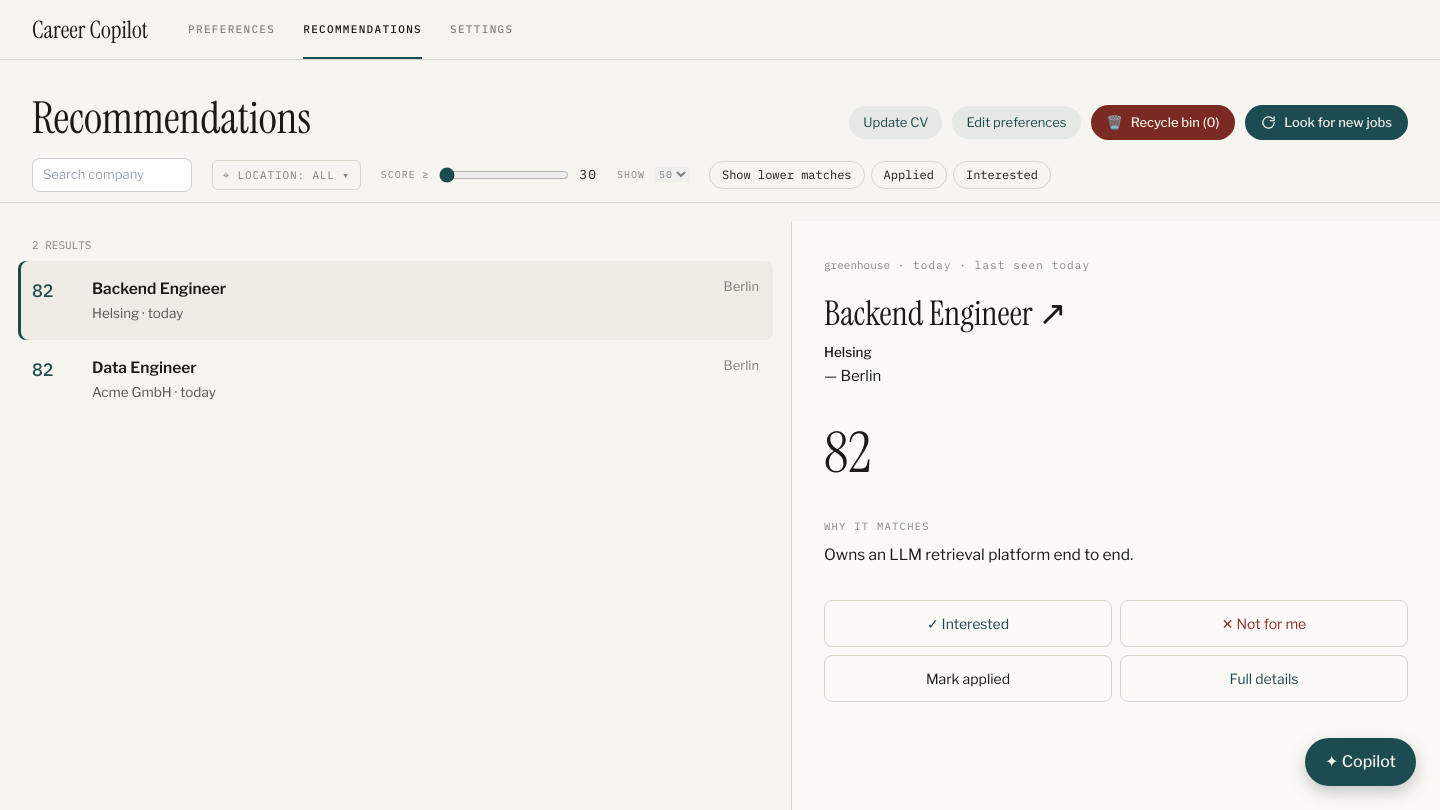
review screen › narrows the list to a company typed in the search box
Type "hels" into the search field named "Search companies" at (112, 175), box [32, 158, 192, 192]
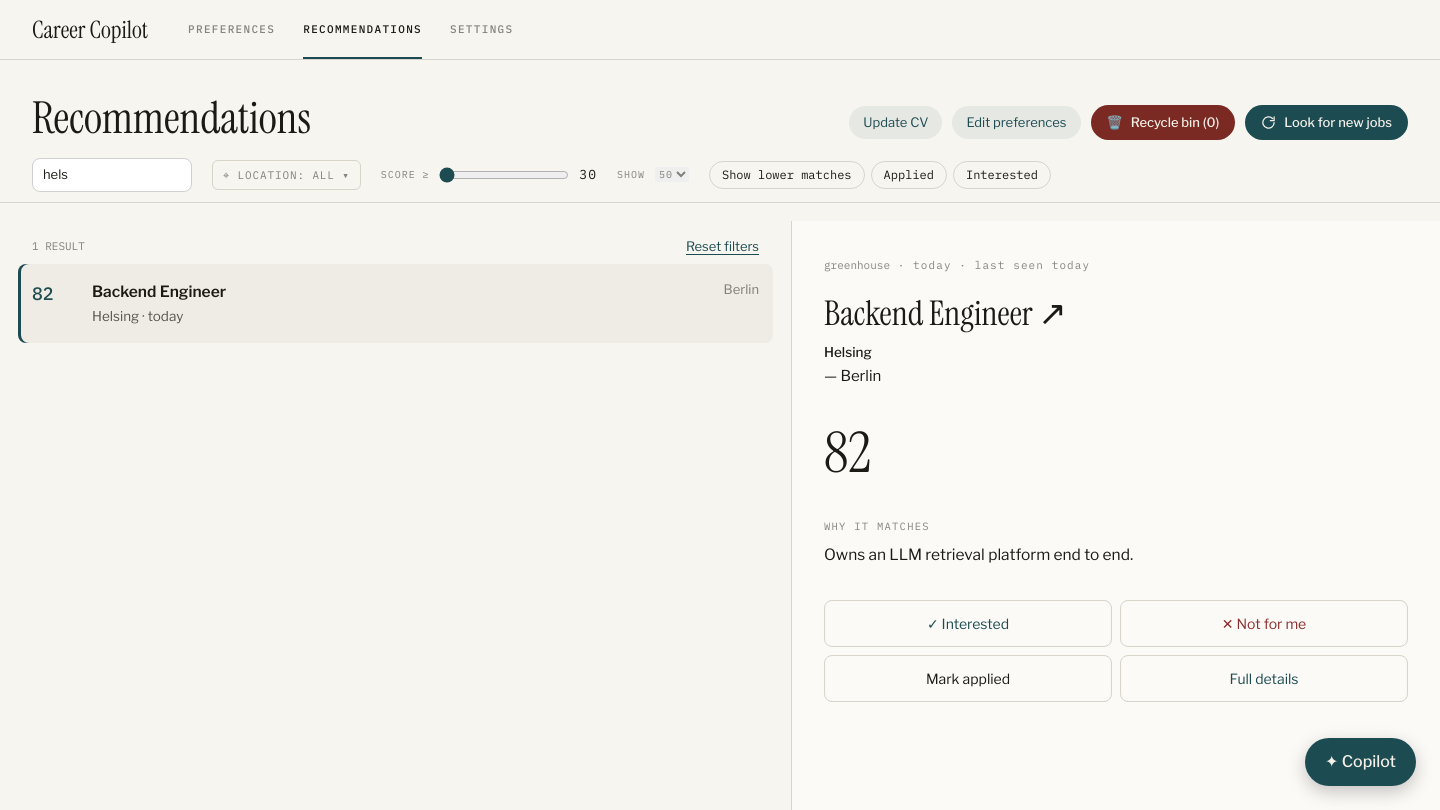
Check: the text "Backend Engineer" is shown, box [92, 280, 226, 303]
Check: the button "Data Engineer" is gone
